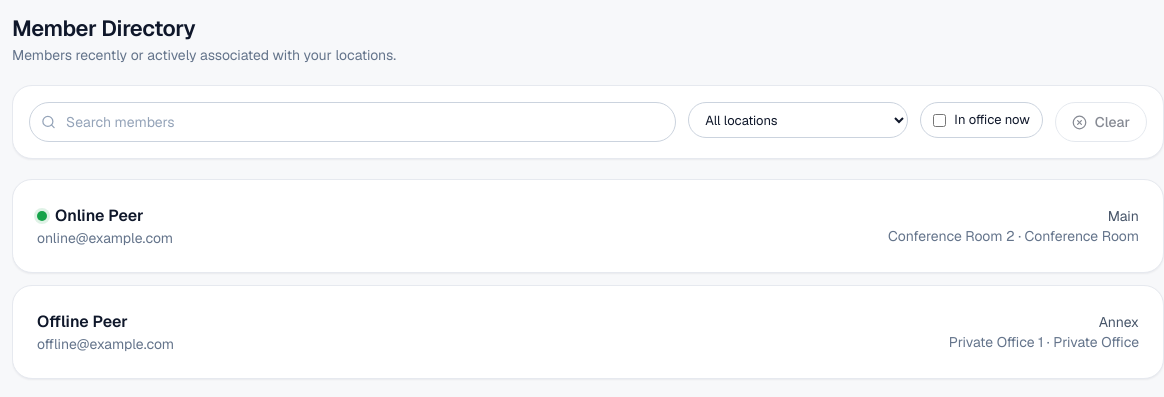
Test case: member directory screen › passes filters to the directory API and clears them
expect the text "Online Peer" is shown: met, box [55,204,144,228]
expect the text "Offline Peer" is shown: met, box [37,310,128,334]
Select "Annex" in the dropdown named "Filter by location": [798, 120] box [688,102,908,138]
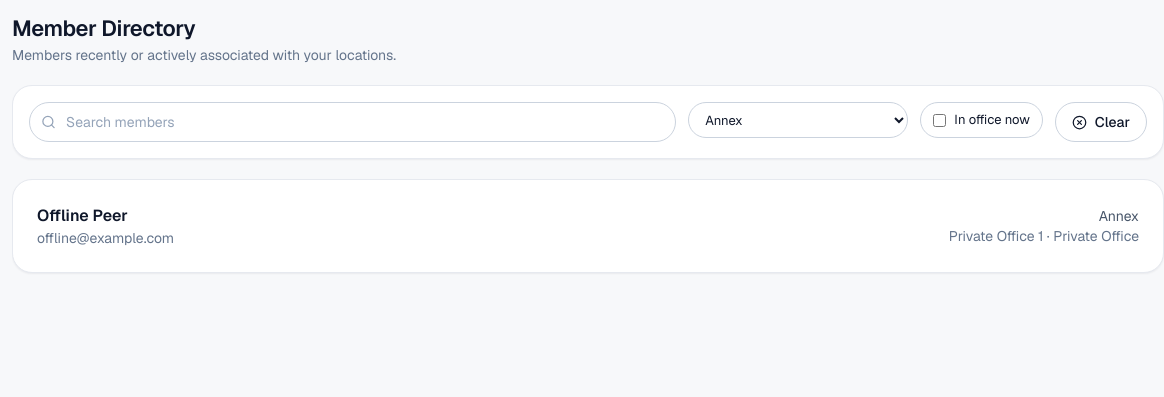
expect the text "Offline Peer" is shown: met, box [37,204,128,228]
expect the text "Online Peer" is gone: met
Click the button "Clear": [1101, 122] box [1055,102,1147,142]
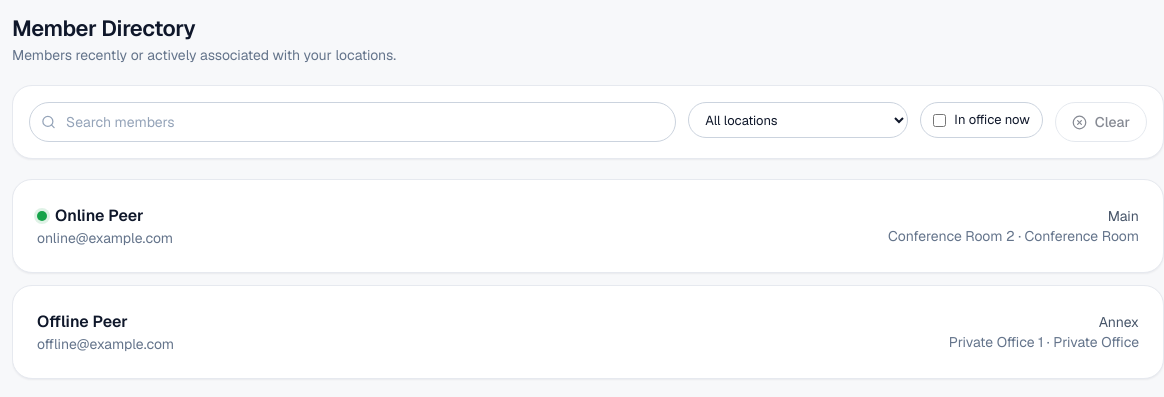
In the field with placeholder "Search members": [353, 122] box [29,102,676,142], type "online"
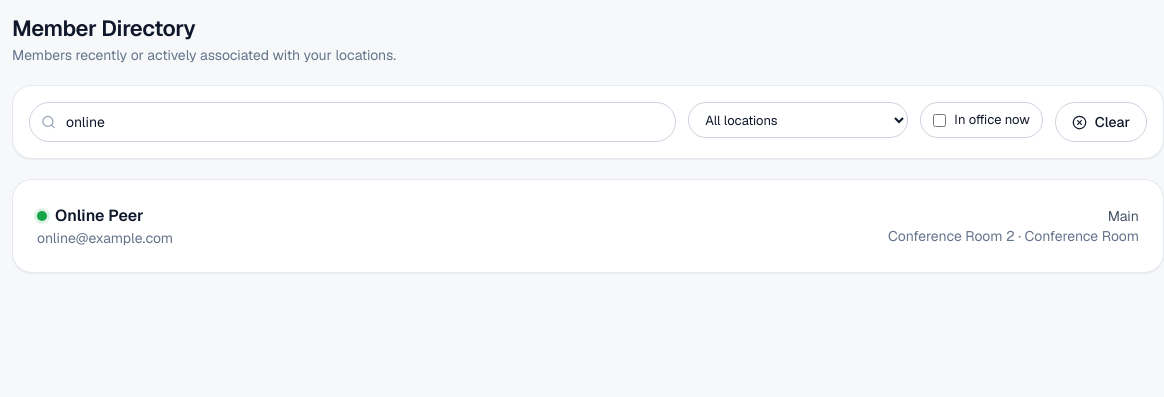
Click the button "Clear": [1101, 122] box [1055,102,1147,142]
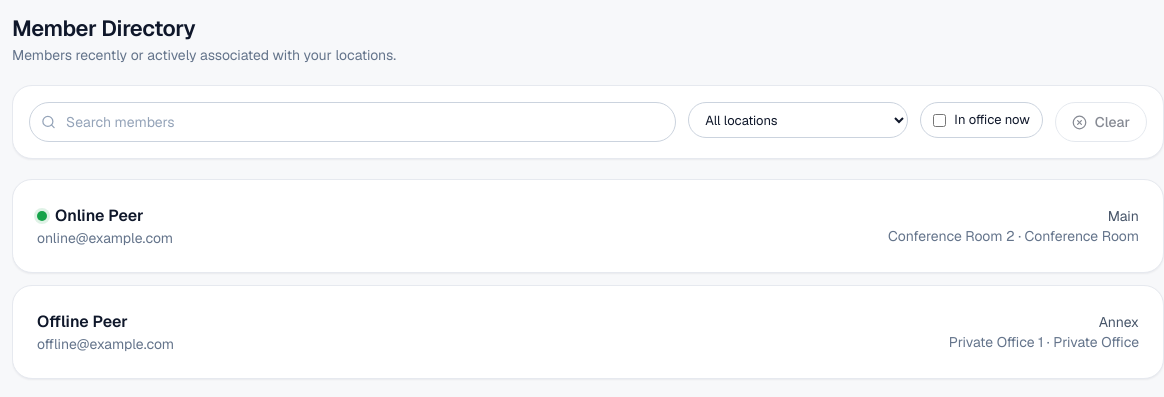
expect the text "Offline Peer" is shown: met, box [37,310,128,334]
Click the checkbox labelled "In office now": [940, 120] box [933,114,946,126]
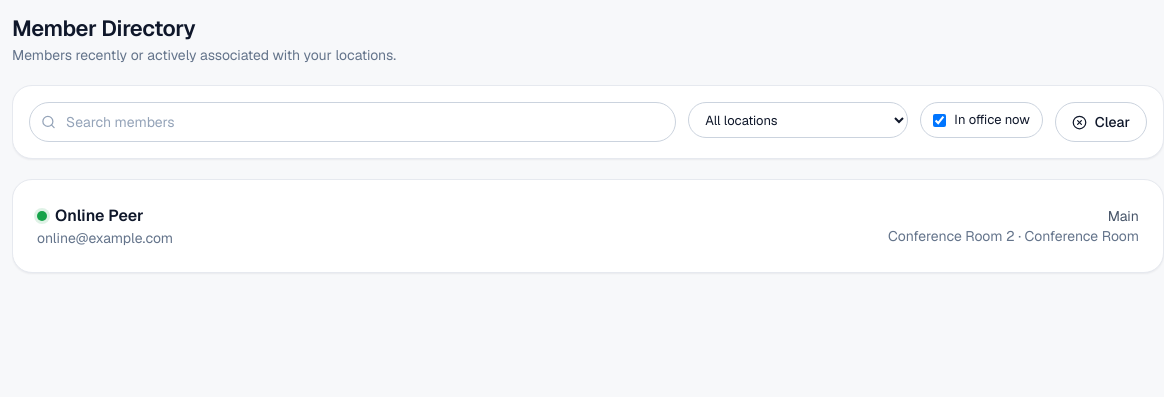
expect the text "Online Peer" is shown: met, box [55,204,144,228]
expect the text "Offline Peer" is gone: met
